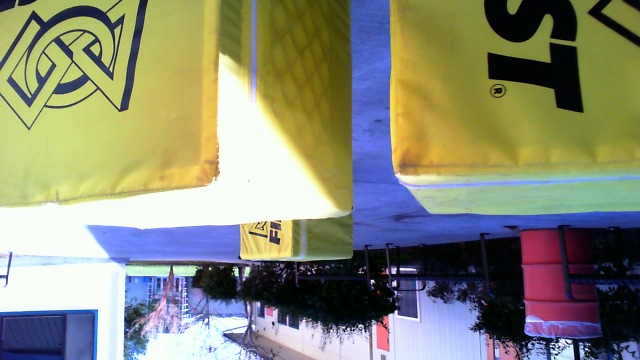cube: (1, 1, 350, 213), (388, 1, 639, 216), (237, 180, 352, 268)
